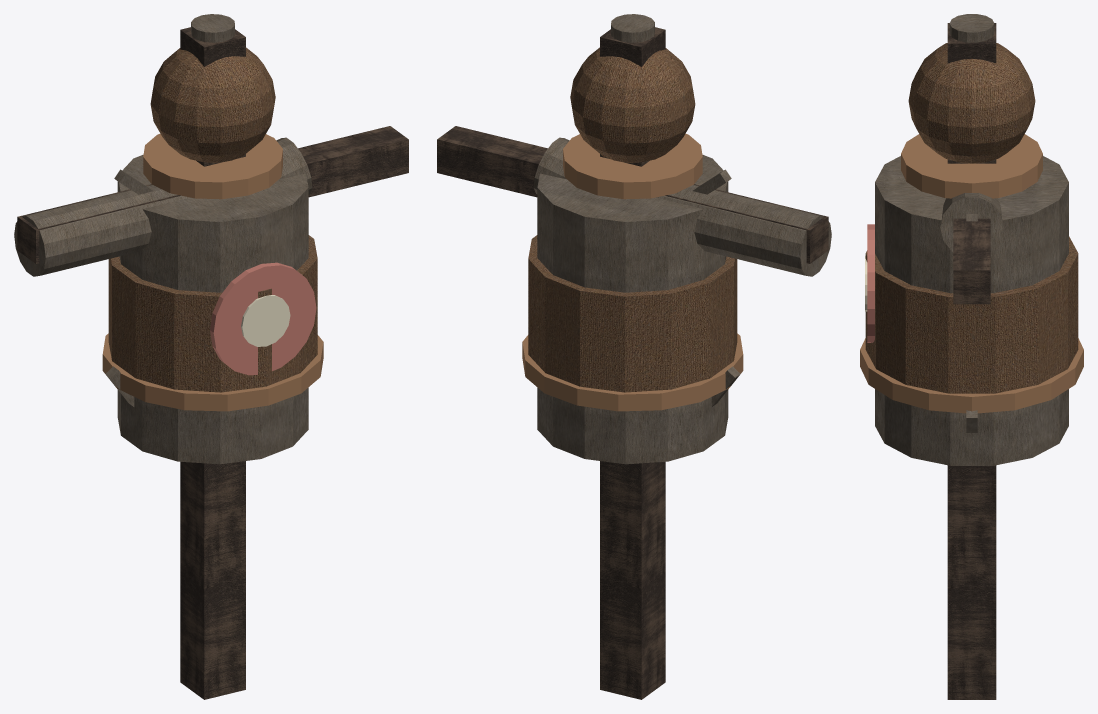
File: prop_training_effigy.glb
3 views of the same model, side by side, from view 1: azimuth 30°, elevation 25°; view 2: azimuth 150°, elevation 25°; view 3: azimuth 270°, elevation 25° (orthographic).
Parts seen in each view (by area): view 1: prop_training_effigy; view 2: prop_training_effigy; view 3: prop_training_effigy.
Boxes of the visible parts, x1,y1,x2,y2 form: prop_training_effigy: (14, 14, 408, 699); prop_training_effigy: (437, 14, 831, 699); prop_training_effigy: (860, 14, 1083, 699).
Bounding box in the file's own units: 1.16 × 1.97 × 0.6.
6 materials, 3 textured.
